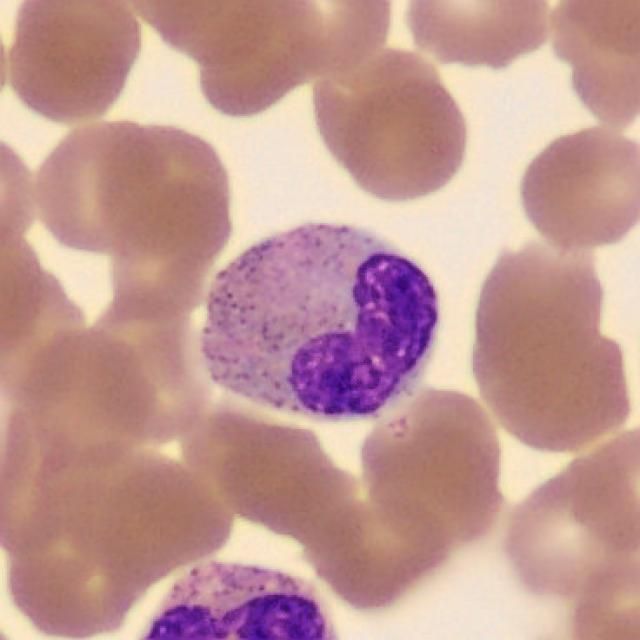Metamielocito: (200, 223, 442, 426)
